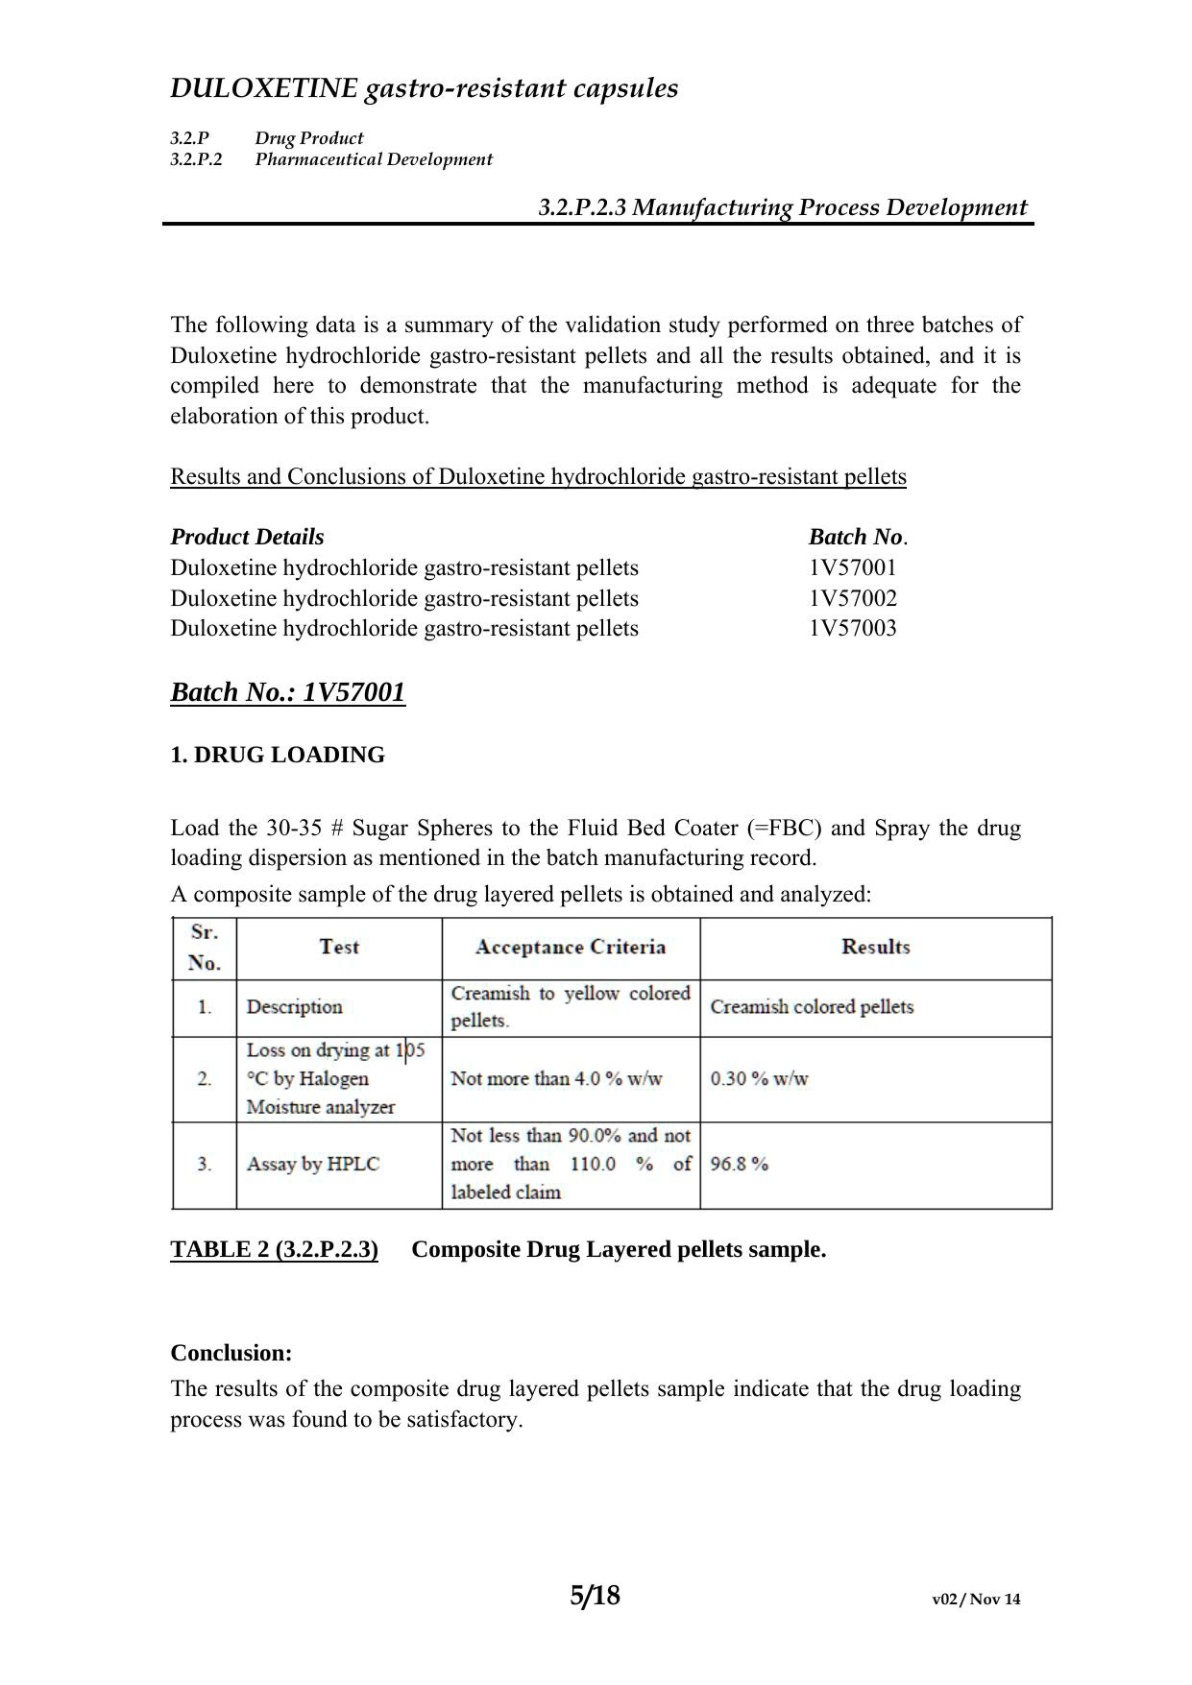full_lined: (172, 917, 1054, 1211)
nolines: (166, 523, 915, 643)
